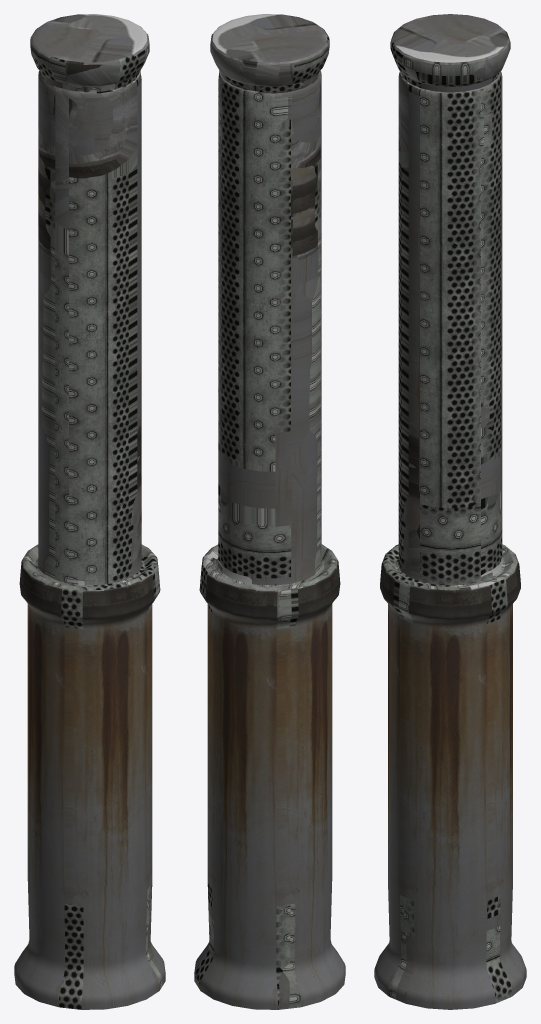
File: core-pillar.glb
3 renders of one model, left to right at view 1: azimuth 30°, elevation 25°; view 2: azimuth 150°, elevation 25°; view 3: azimuth 270°, elevation 25°, orthographic.
Visible parts, largest first — view 1: Cylinder025__0; view 2: Cylinder025__0; view 3: Cylinder025__0.
Boxes of the visible parts, left/top/right/bottom form: Cylinder025__0: left=14, top=14, right=165, bottom=1009; Cylinder025__0: left=194, top=14, right=345, bottom=1009; Cylinder025__0: left=374, top=14, right=526, bottom=1009.
Size of the model in its own units: 44.05 by 300 by 44.05.
1 material, 1 textured.
